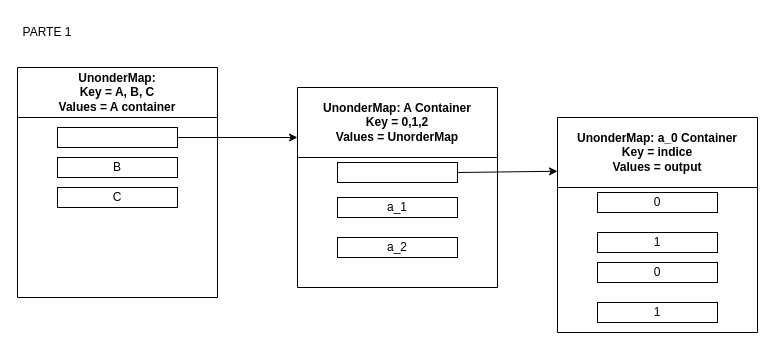
Image size: 775x350. Some labels were removed from this diagram. The shapes that lost their labels are listed below. From the top down, each one's centre as x and y in pixels, then its label:
At (x=117, y=137): "A (EDAD)".
At (x=397, y=172): "a_0".
